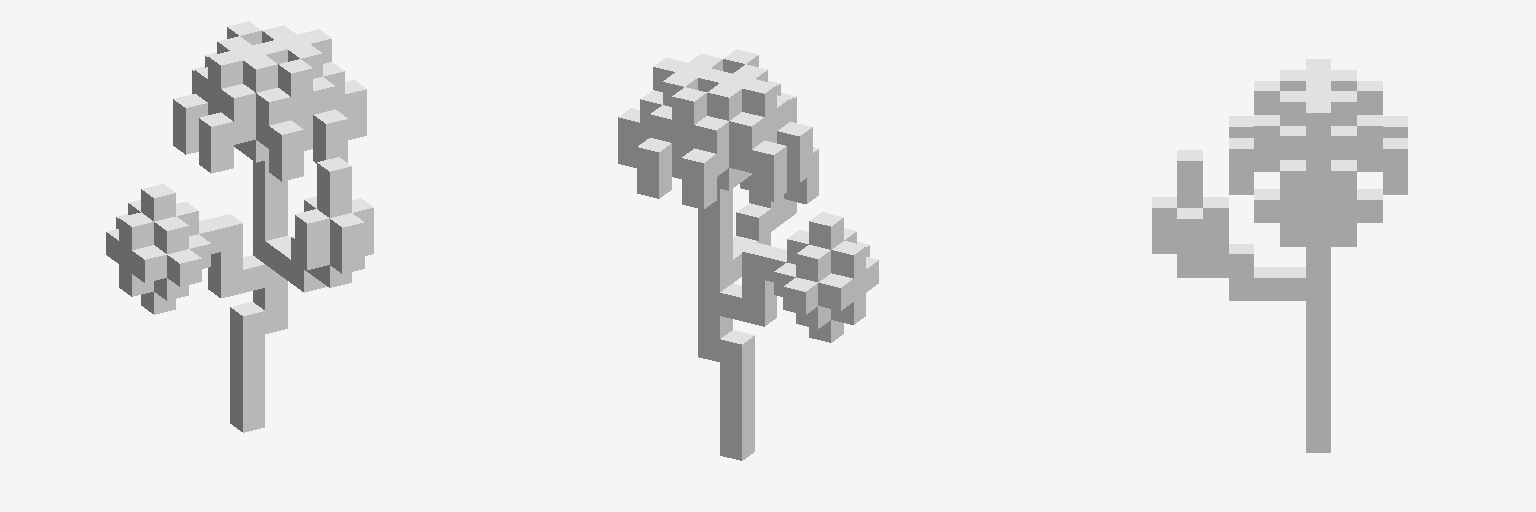
File: CottonPlant2.obj
The picture shows the model from 3 angles: view 1: azimuth 30°, elevation 25°; view 2: azimuth 150°, elevation 25°; view 3: azimuth 270°, elevation 25°; orthographic projection.
Parts seen in each view (by area): view 1: CottonPlant2; view 2: CottonPlant2; view 3: CottonPlant2.
Boxes of the visible parts, box(x1,y1,x2,y2) form: CottonPlant2: box(106, 21, 373, 432); CottonPlant2: box(618, 49, 878, 460); CottonPlant2: box(1152, 59, 1407, 452).
Size of the model in its own units: 1 by 1.6 by 1.